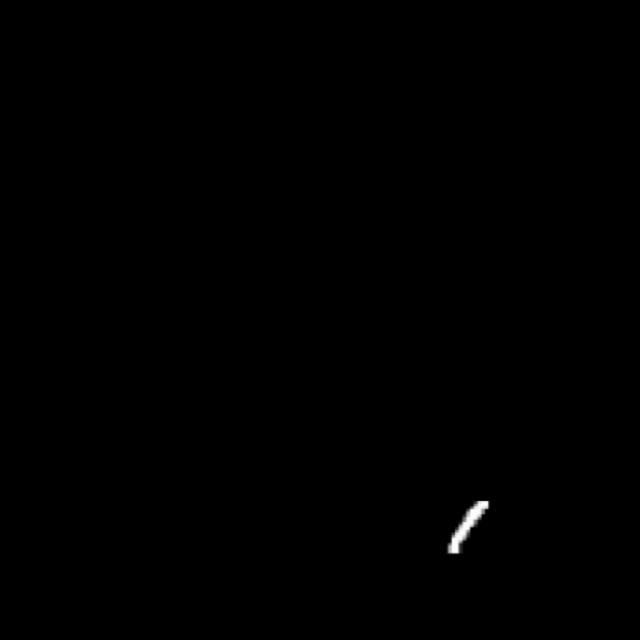one -1-: (433, 488, 510, 569)
